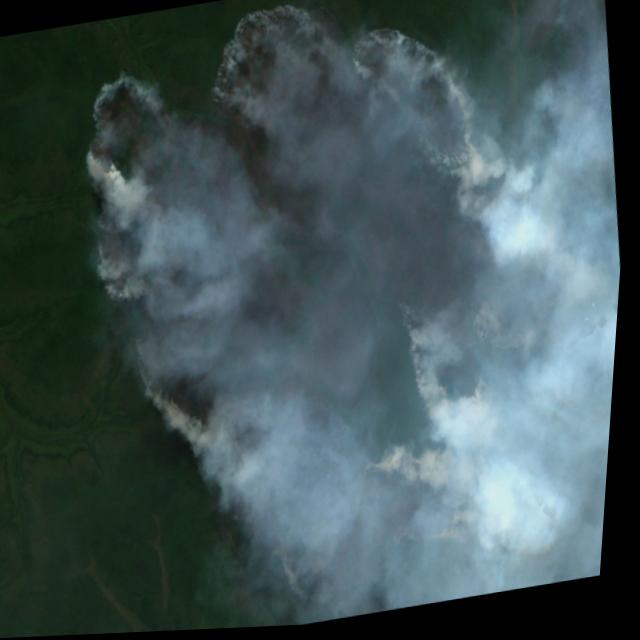fire: (41, 0, 640, 637)
